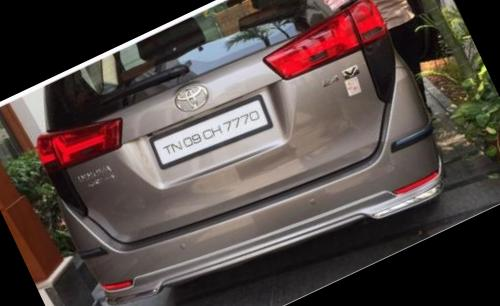plate: (141, 82, 294, 193)
